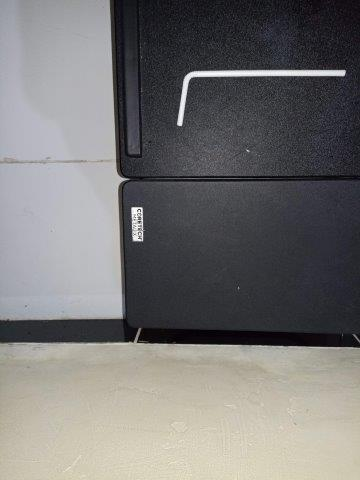sedotan: (177, 70, 346, 127)
